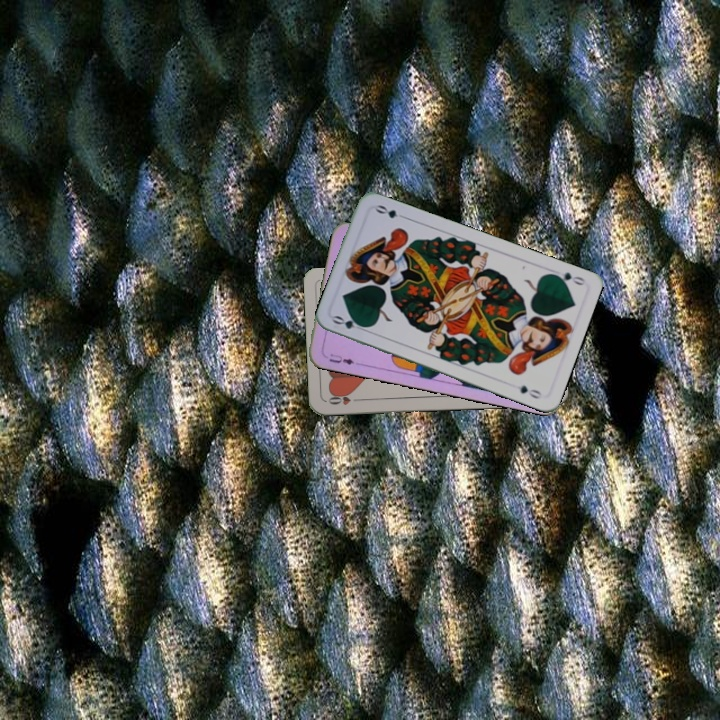EU: (325, 349, 357, 368)
GO: (329, 311, 370, 334), (547, 268, 587, 288)
HO: (324, 390, 364, 408)
